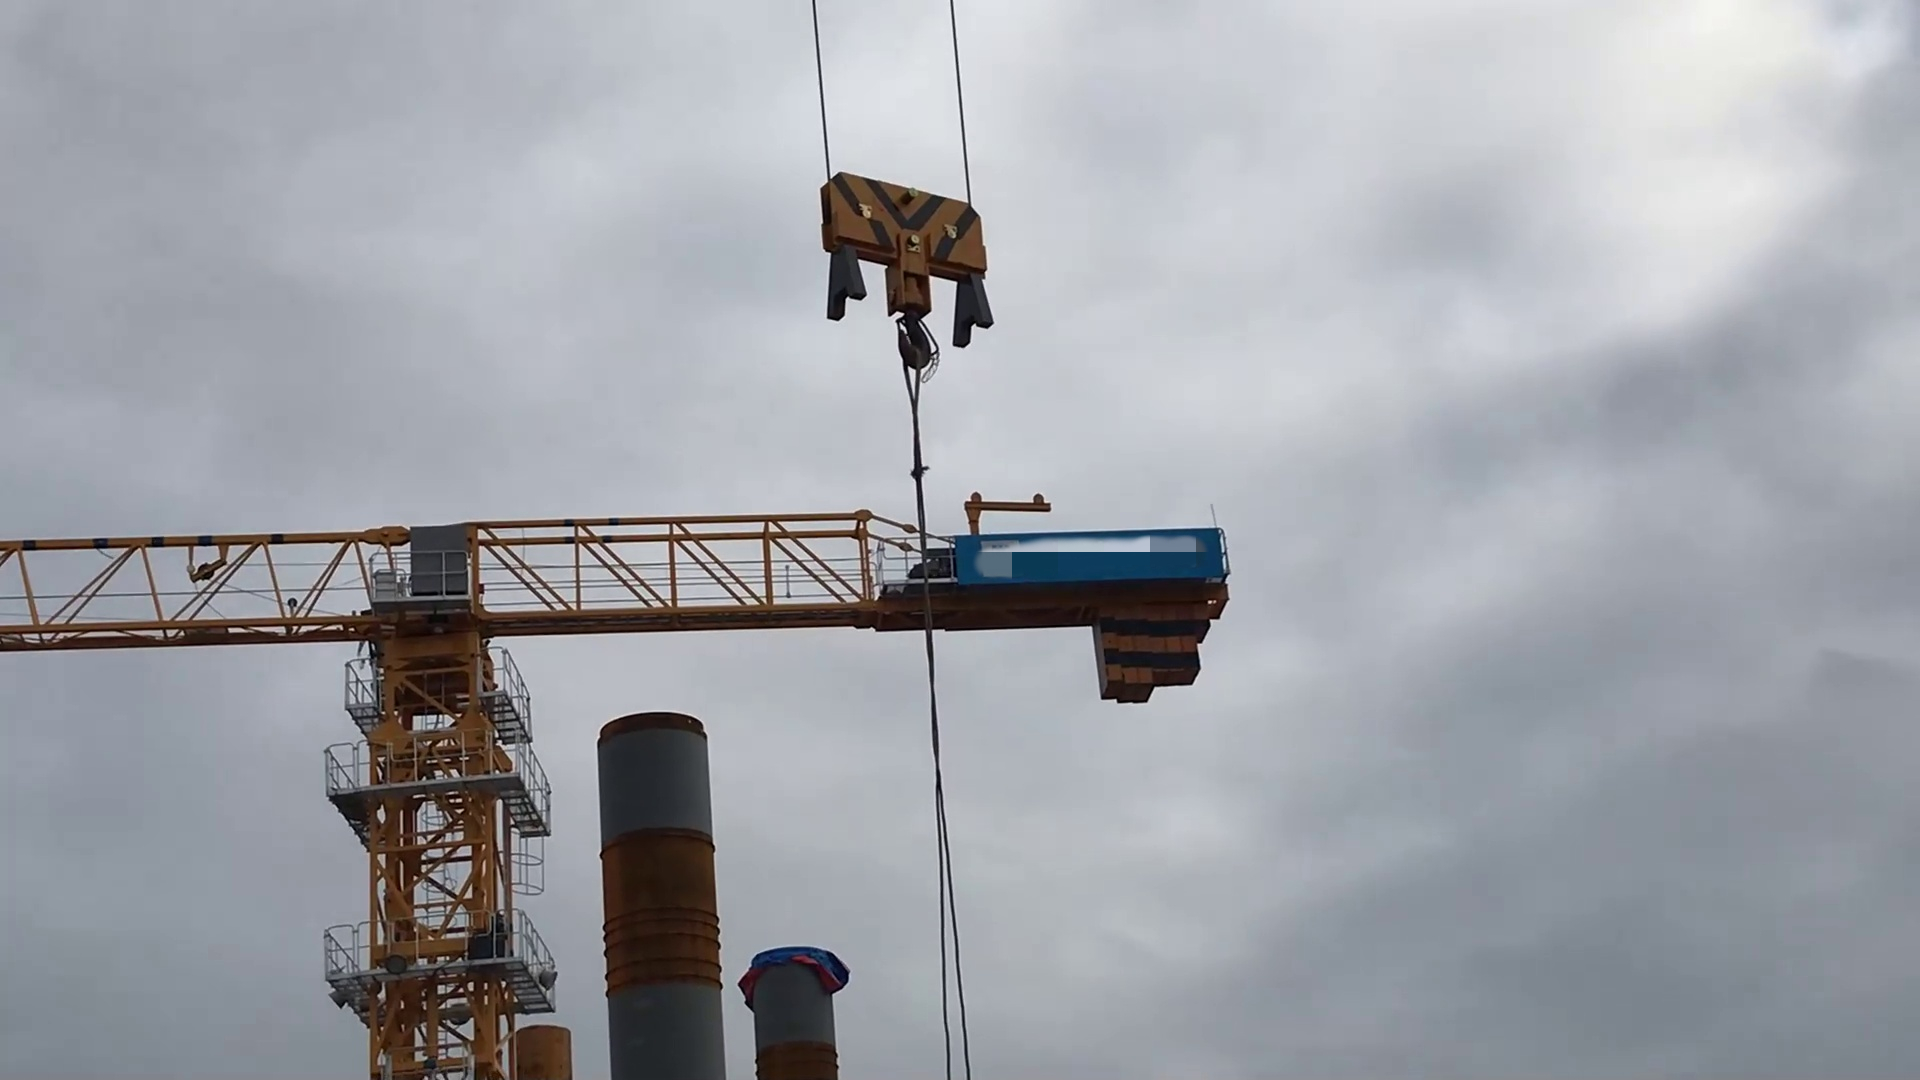hook: (807, 158, 1006, 382)
